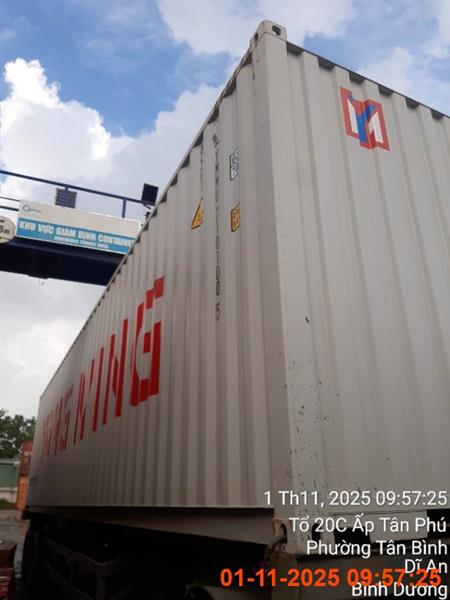broken: (18, 20, 448, 599), (18, 21, 448, 599)
